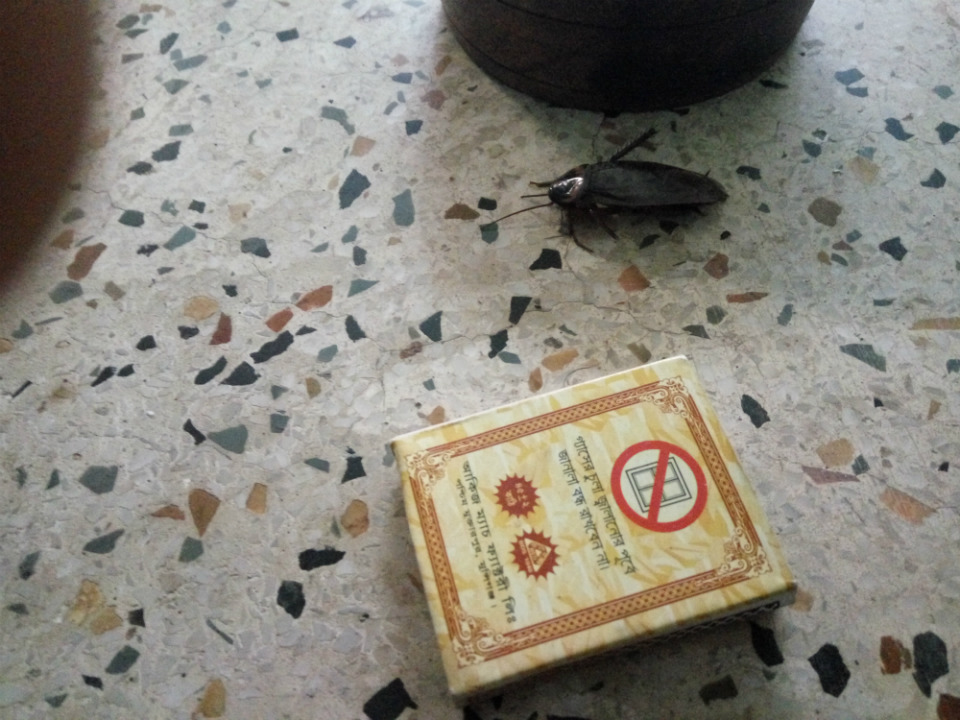cockroach: (432, 147, 772, 255)
